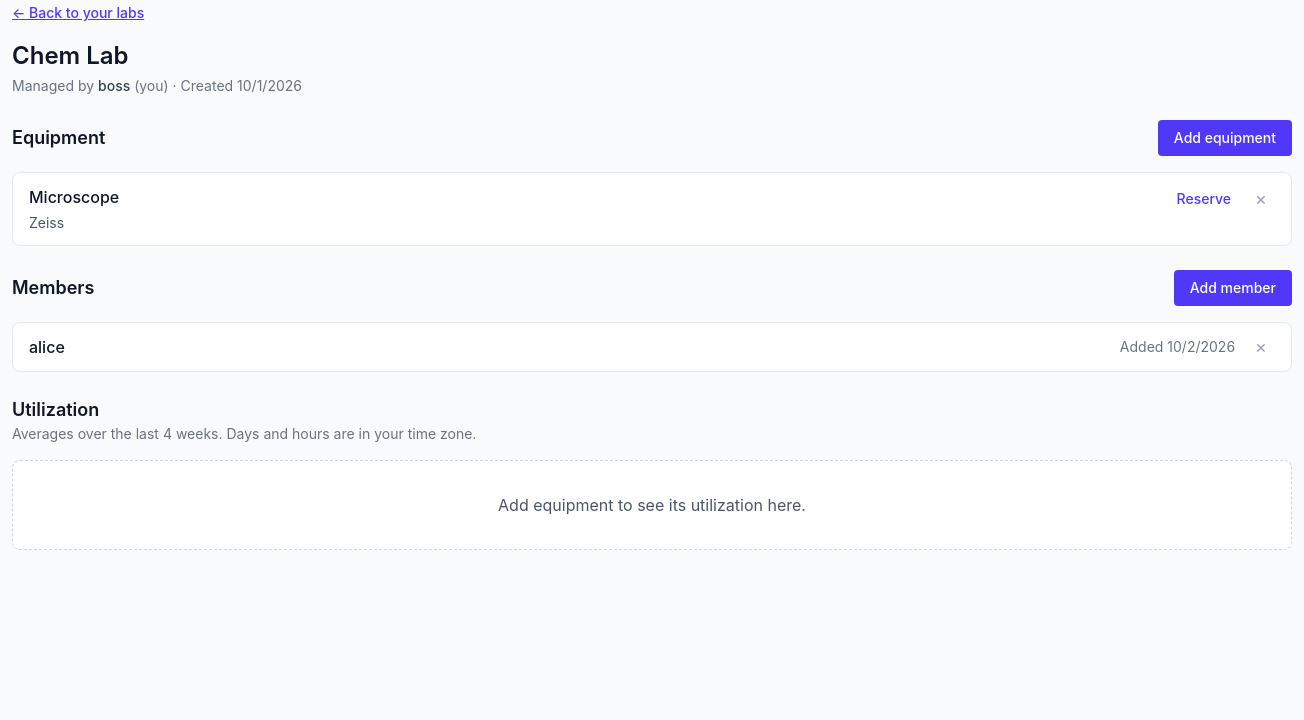
members › keeps the member and shows an error when removing fails
What coordinates should you click on to do the following:
click the button named "Remove alice"
I would click on:
 (1261, 347)
Its box is [1247,336,1275,358].
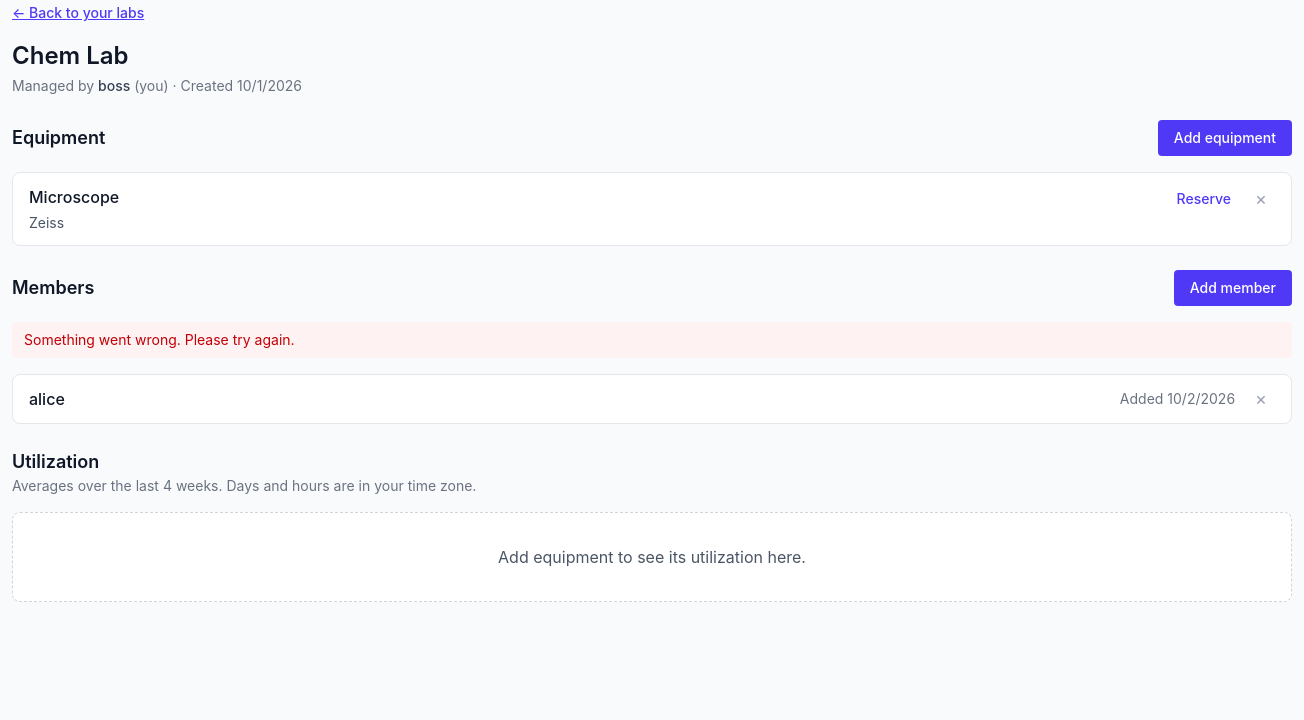
Expected: the text "alice" is shown, [29,387,65,411]
Now the message reads "Something went wrong. Please try again.", box [24,331,295,348]
